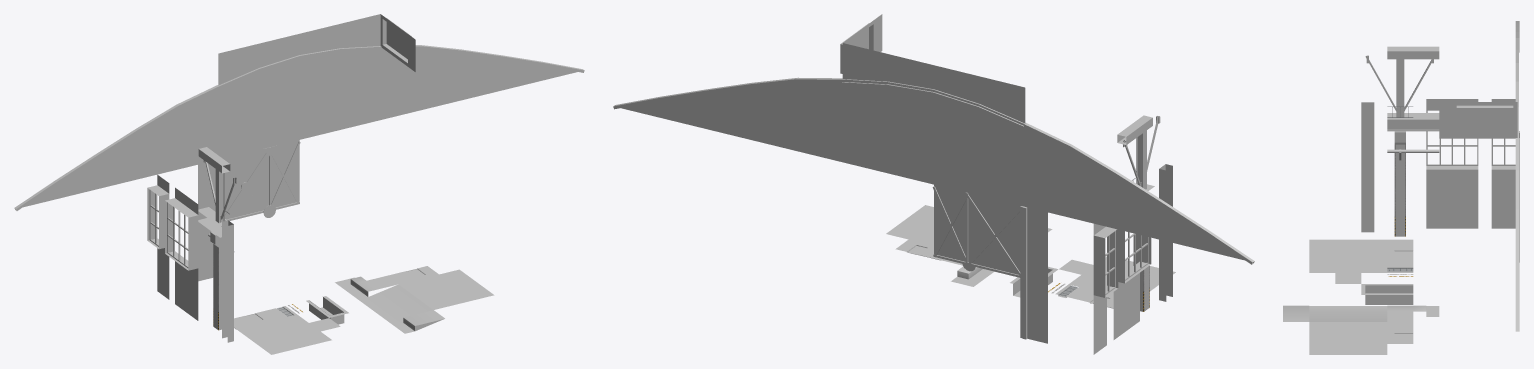
The model's file is Fin_1.fbx.
3 renders of one model, left to right at view 1: azimuth 30°, elevation 25°; view 2: azimuth 150°, elevation 25°; view 3: azimuth 270°, elevation 25°, orthographic. The views are drawn at different scales.
Visible parts, largest first — view 1: PL_Wall_Base, PL_Wall_Base_L, PL_Wall_Base_R, PL_12, PL_16, PL_Base, PL_Base_b, PL_18, PL_13, PL_24, PL_15, Tav_13 (+10 smaller); view 2: PL_Wall_Base, PL_Wall_Base_R, PL_Wall_Base_L, PL_12, PL_13, PL_18, PL_16, Tav_13, PL_15, PL_Base_b, Tav_12, Tav_10 (+4 smaller); view 3: PL_16, PL_Base, PL_Base_b, PL_15, PL_18, PL_Window_Glass, PL_24, PL_7, Tav_12, Tav_1, PL_Wall_M_Window, Tav_2 (+19 smaller).
Part boxes in pixels (x1,y1,x2,y2): PL_Wall_Base: (218,14,380,158); PL_Wall_Base_L: (23,89,218,207); PL_Wall_Base_R: (380,48,576,119); PL_12: (223,140,299,219); PL_16: (165,187,198,320); PL_Base: (236,314,331,354); PL_Base_b: (399,269,494,309); PL_18: (147,175,169,299); PL_13: (198,163,215,281); PL_24: (358,284,432,325); PL_15: (222,220,233,342); Tav_13: (14,85,219,210); PL_Wall_Base: (842,43,1025,206); PL_Wall_Base_R: (621,80,842,162); PL_Wall_Base_L: (1025,128,1244,260); PL_12: (934,184,1020,274); PL_13: (1027,207,1047,343); PL_18: (1093,223,1118,354); PL_16: (1113,229,1151,339); Tav_13: (1024,123,1254,264); PL_15: (1159,164,1172,301); PL_Base_b: (886,205,933,245); Tav_12: (613,77,842,109); Tav_10: (932,186,1020,275); PL_16: (1426,99,1478,228); PL_Base: (1309,239,1387,272); PL_Base_b: (1309,322,1387,354); PL_15: (1361,102,1374,232); PL_18: (1491,99,1515,228); PL_Window_Glass: (1457,108,1512,136); PL_24: (1309,306,1387,321); PL_7: (1394,131,1405,236); Tav_12: (1515,138,1519,331); Tav_1: (1387,113,1439,131); PL_Wall_M_Window: (1452,102,1517,138); Tav_2: (1387,46,1439,59).
Bounding box in the file's own units: 56.05 × 22 × 18.18.
